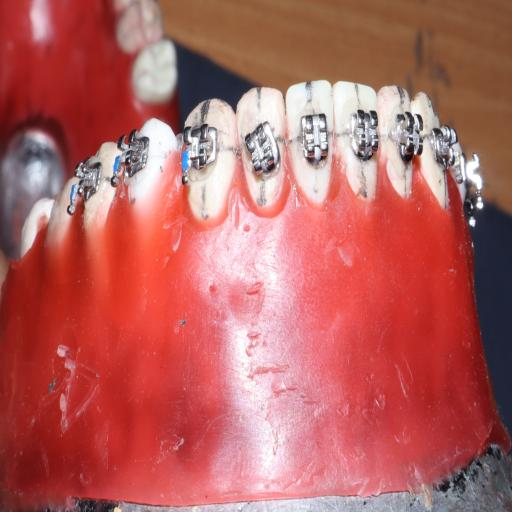correct_brace: (177, 119, 224, 195), (295, 109, 332, 170)
incorrect_brace: (234, 84, 287, 219), (241, 118, 283, 184)
